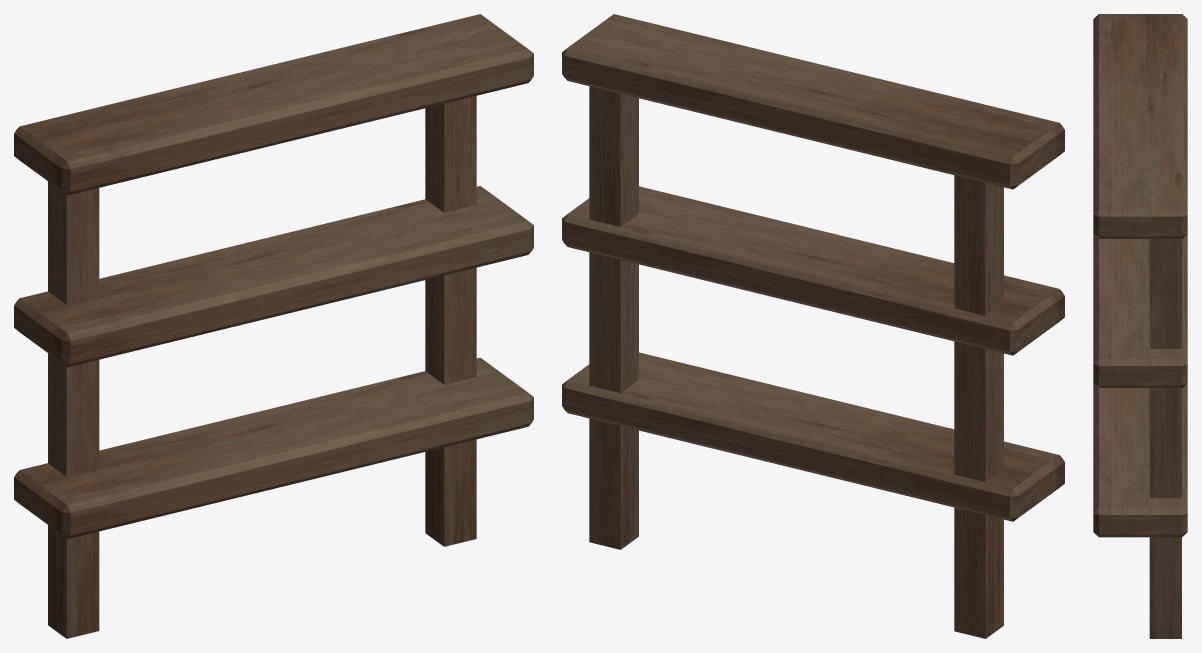
The model's file is standshowcase.fbx.
The picture shows the model from 3 angles, left to right: view 1: azimuth 30°, elevation 25°; view 2: azimuth 150°, elevation 25°; view 3: azimuth 270°, elevation 25°; orthographic projection. The views are drawn at different scales.
Parts seen in each view (by area): view 1: standshowcase; view 2: standshowcase; view 3: standshowcase.
Boxes of the visible parts, left/top/right/bottom form: standshowcase: left=14, top=14, right=533, bottom=638; standshowcase: left=562, top=14, right=1064, bottom=638; standshowcase: left=1093, top=14, right=1187, bottom=638.
Bounding box in the file's own units: 82.36 × 84.34 × 16.42.
